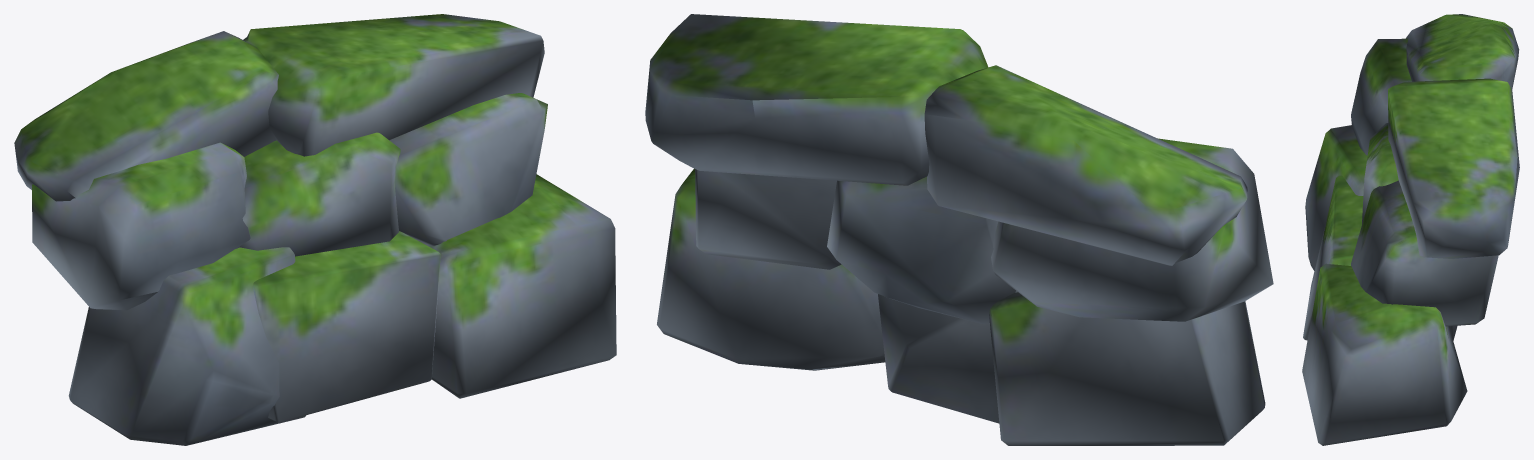
The model's file is cliff_a_lod1.glb.
3 renders of one model, left to right at view 1: azimuth 30°, elevation 25°; view 2: azimuth 150°, elevation 25°; view 3: azimuth 270°, elevation 25°, orthographic. The views are drawn at different scales.
Visible parts, largest first — view 1: cliff_a_lod1; view 2: cliff_a_lod1; view 3: cliff_a_lod1.
Part boxes in pixels (box(x1,y1,x2,y2)): cliff_a_lod1: box(14, 14, 616, 445); cliff_a_lod1: box(645, 14, 1273, 445); cliff_a_lod1: box(1302, 14, 1519, 445).
Bounding box in the file's own units: 5.59 × 3.2 × 2.36.
Materials: 1 (1 with a texture image).
